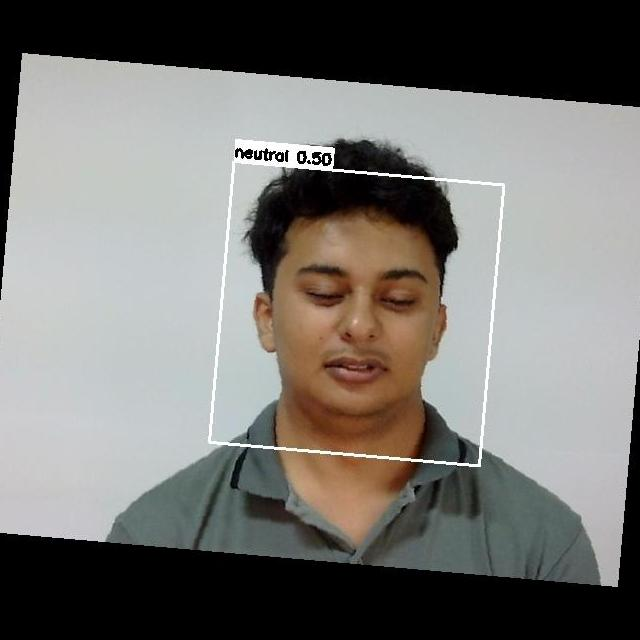Sad: (266, 235, 453, 409)
